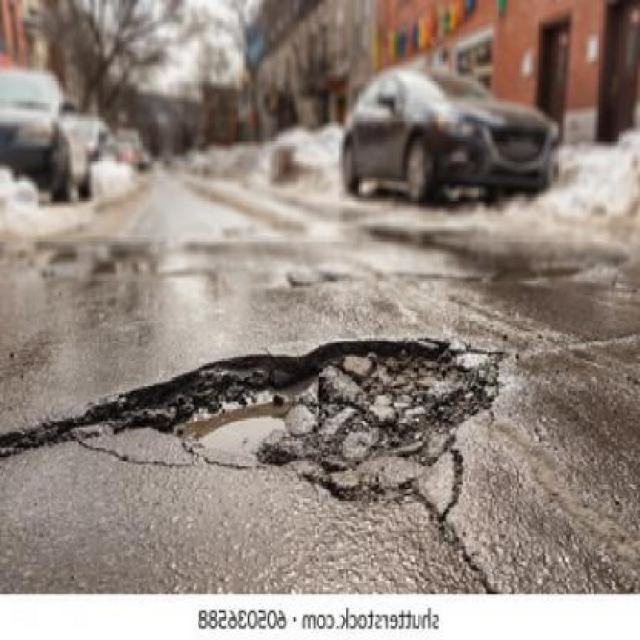pothole: (99, 333, 510, 506)
